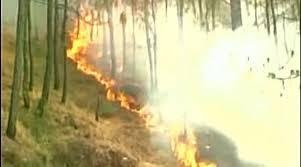fire: (62, 2, 163, 132)
